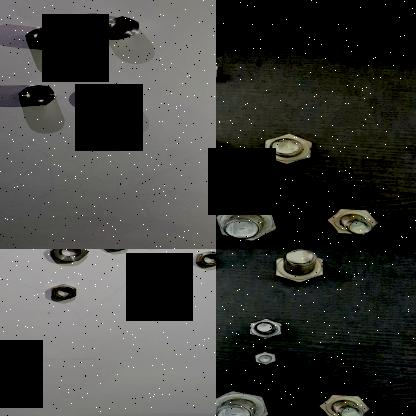Bolts: (216, 200, 285, 243), (252, 130, 323, 168), (259, 249, 331, 286), (316, 204, 384, 236), (309, 392, 375, 416), (216, 389, 272, 416), (243, 314, 285, 342), (247, 350, 279, 370)
NUTS: (93, 14, 142, 41), (20, 26, 64, 52), (96, 84, 138, 110), (16, 84, 56, 108), (44, 283, 80, 303), (48, 249, 92, 264), (192, 250, 216, 272), (96, 249, 130, 254)
